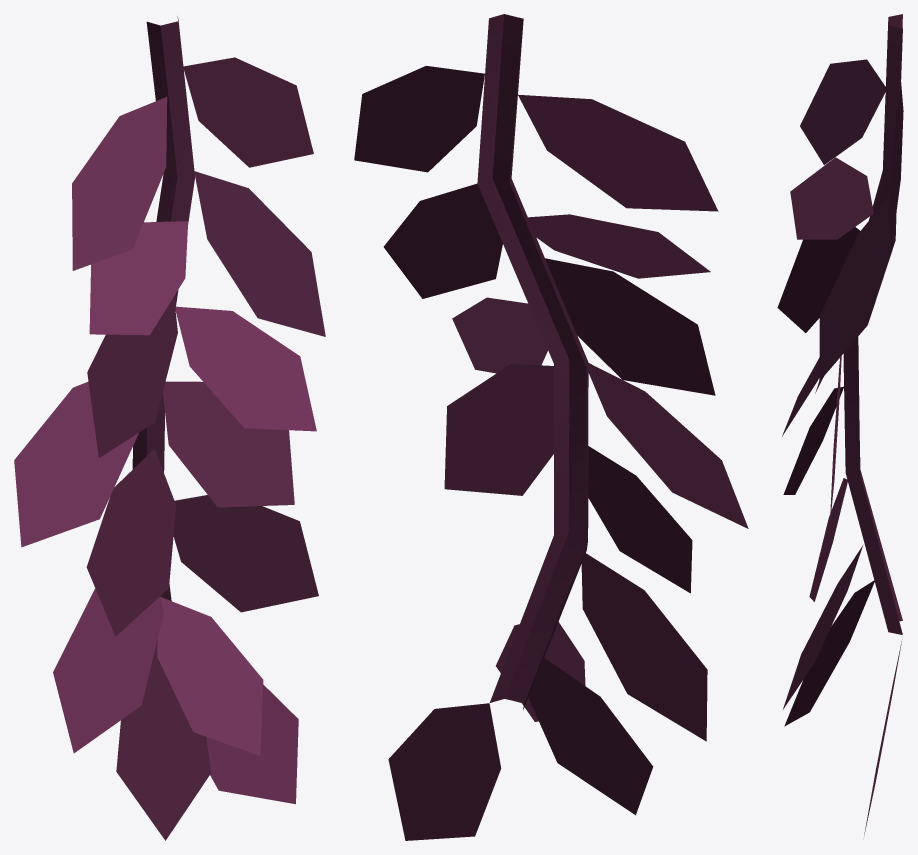
File: prop_vines.fbx
3 views of the same model, side by side, from view 1: azimuth 30°, elevation 25°; view 2: azimuth 150°, elevation 25°; view 3: azimuth 270°, elevation 25° (orthographic). The views are drawn at different scales.
Parts seen in each view (by area): view 1: prop_vines; view 2: prop_vines; view 3: prop_vines.
Part boxes in pixels (bbox=[...]): prop_vines: bbox=[14, 16, 325, 840]; prop_vines: bbox=[354, 14, 748, 840]; prop_vines: bbox=[777, 14, 903, 836].
Bounding box in the file's own units: 2.58 × 6 × 0.894.
